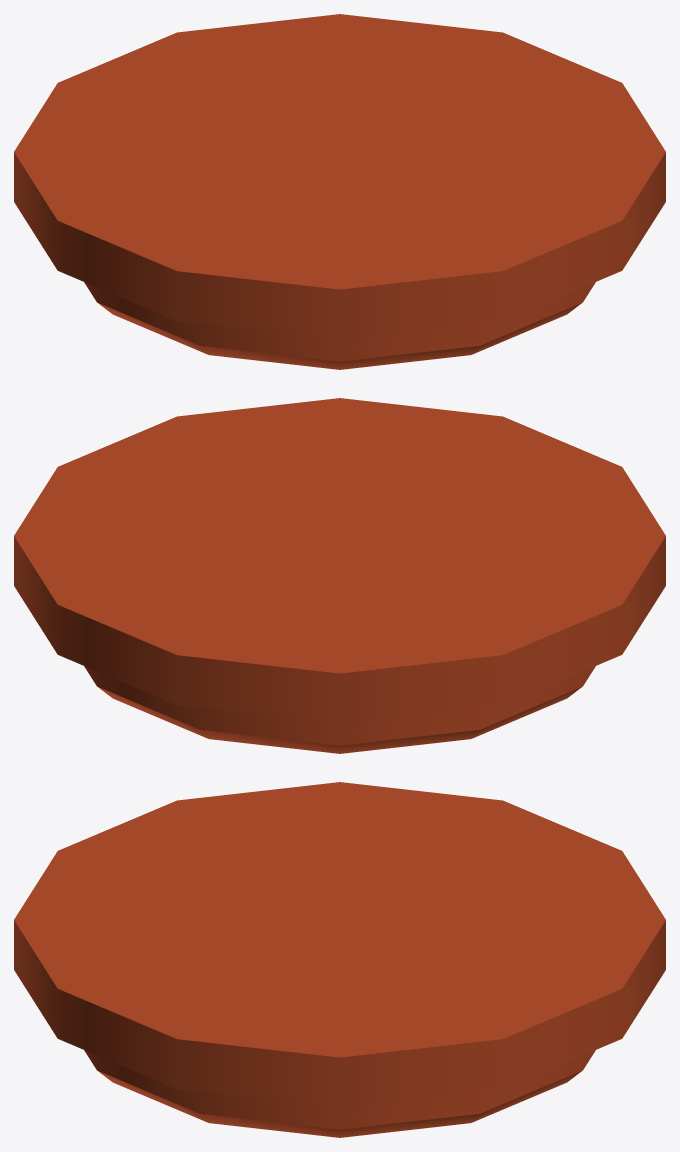
The model's file is SM_ChainHole.fbx.
3 renders of one model, top to bottom at view 1: azimuth 30°, elevation 25°; view 2: azimuth 150°, elevation 25°; view 3: azimuth 270°, elevation 25°, orthographic.
Visible parts, largest first — view 1: Cylinder001; view 2: Cylinder001; view 3: Cylinder001.
Boxes of the visible parts, bbox=[...] form: Cylinder001: bbox=[14, 14, 665, 369]; Cylinder001: bbox=[14, 398, 665, 753]; Cylinder001: bbox=[14, 782, 665, 1137].
Size of the model in its own units: 0.1943 by 0.0353 by 0.1943.
